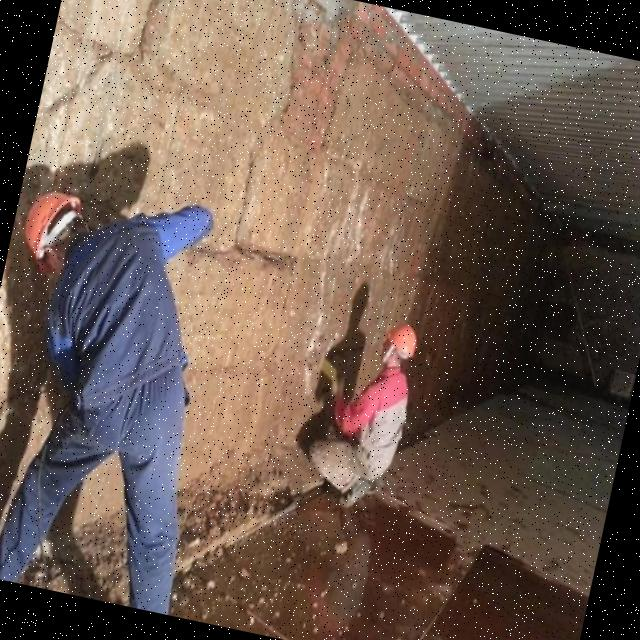Helmet: (17, 186, 85, 282), (381, 320, 421, 361)
NoJacket: (29, 223, 201, 447), (352, 362, 413, 482)
